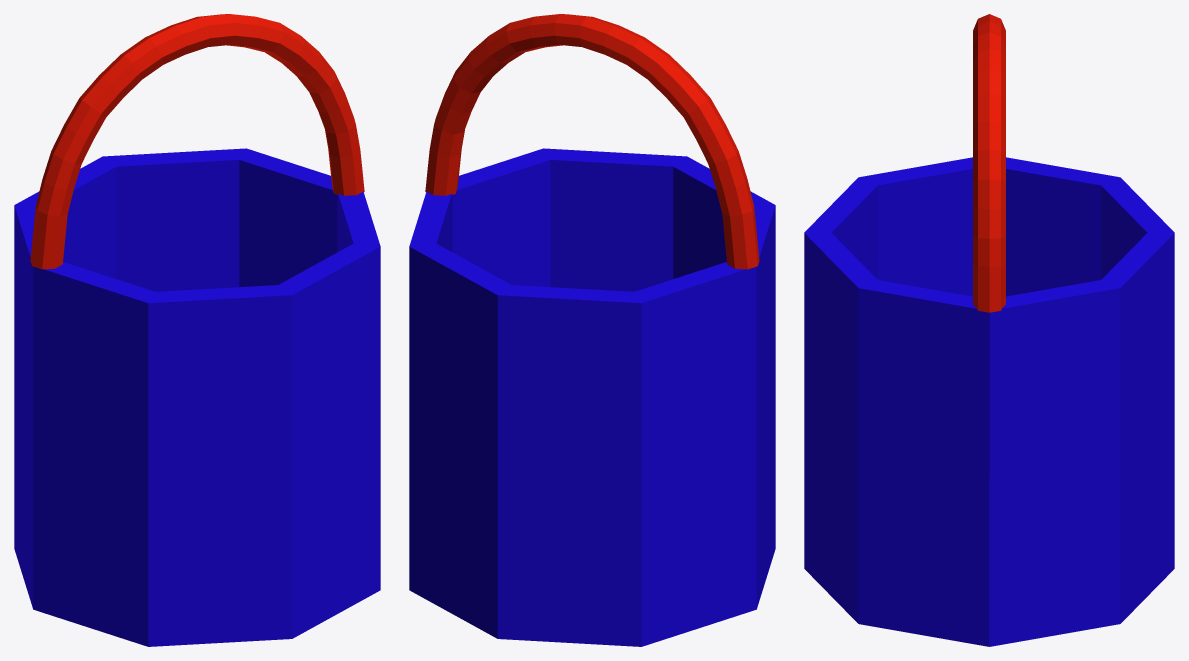
Rendered from Bucket.fbx.
3 renders of one model, left to right at view 1: azimuth 30°, elevation 25°; view 2: azimuth 150°, elevation 25°; view 3: azimuth 270°, elevation 25°, orthographic. The views are drawn at different scales.
Parts seen in each view (by area): view 1: Cylinder.001; view 2: Cylinder.001; view 3: Cylinder.001.
Part boxes in pixels (left/top/right/bottom): Cylinder.001: left=14, top=14, right=380, bottom=646; Cylinder.001: left=409, top=14, right=775, bottom=646; Cylinder.001: left=804, top=14, right=1174, bottom=646.
Bounding box in the file's own units: 201 × 321 × 200.
